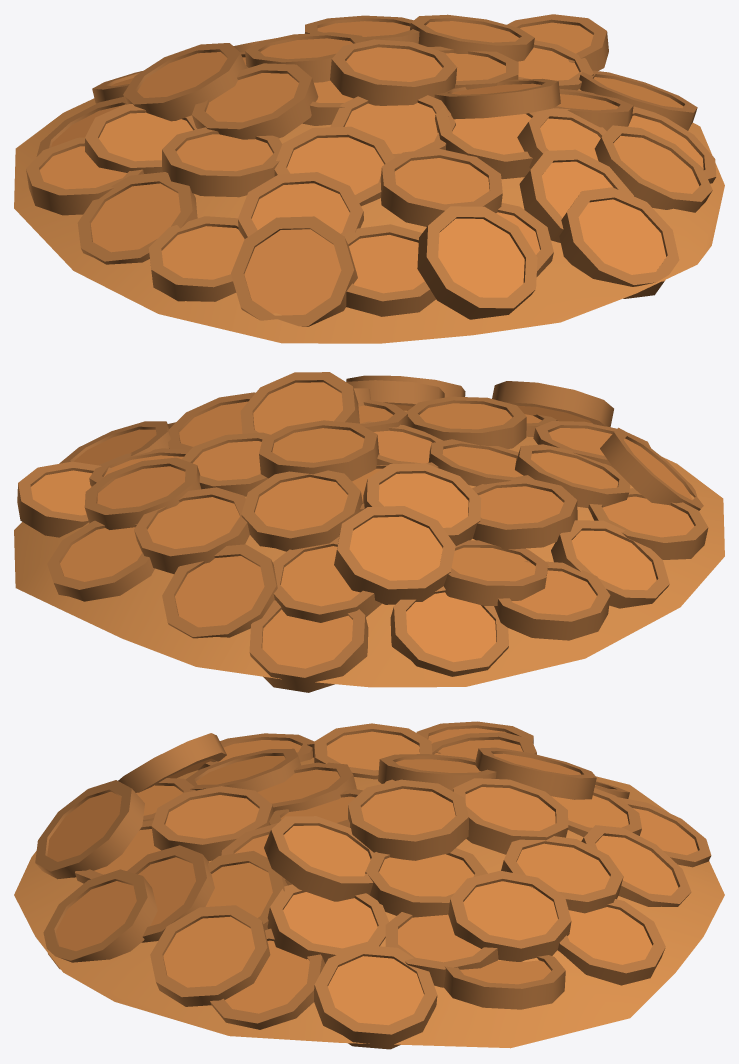
File: LeprechaunHat_02_Gold.fbx
3 views of the same model, one above another, from view 1: azimuth 30°, elevation 25°; view 2: azimuth 150°, elevation 25°; view 3: azimuth 270°, elevation 25° (orthographic). The views are drawn at different scales.
Parts seen in each view (by area): view 1: LeprechaunHat_02_Gold; view 2: LeprechaunHat_02_Gold; view 3: LeprechaunHat_02_Gold.
Boxes of the visible parts, x1,y1,x2,y2 form: LeprechaunHat_02_Gold: (14, 14, 724, 343); LeprechaunHat_02_Gold: (14, 372, 724, 692); LeprechaunHat_02_Gold: (14, 721, 724, 1049).
Bounding box in the file's own units: 0.2487 × 0.0498 × 0.2506.
